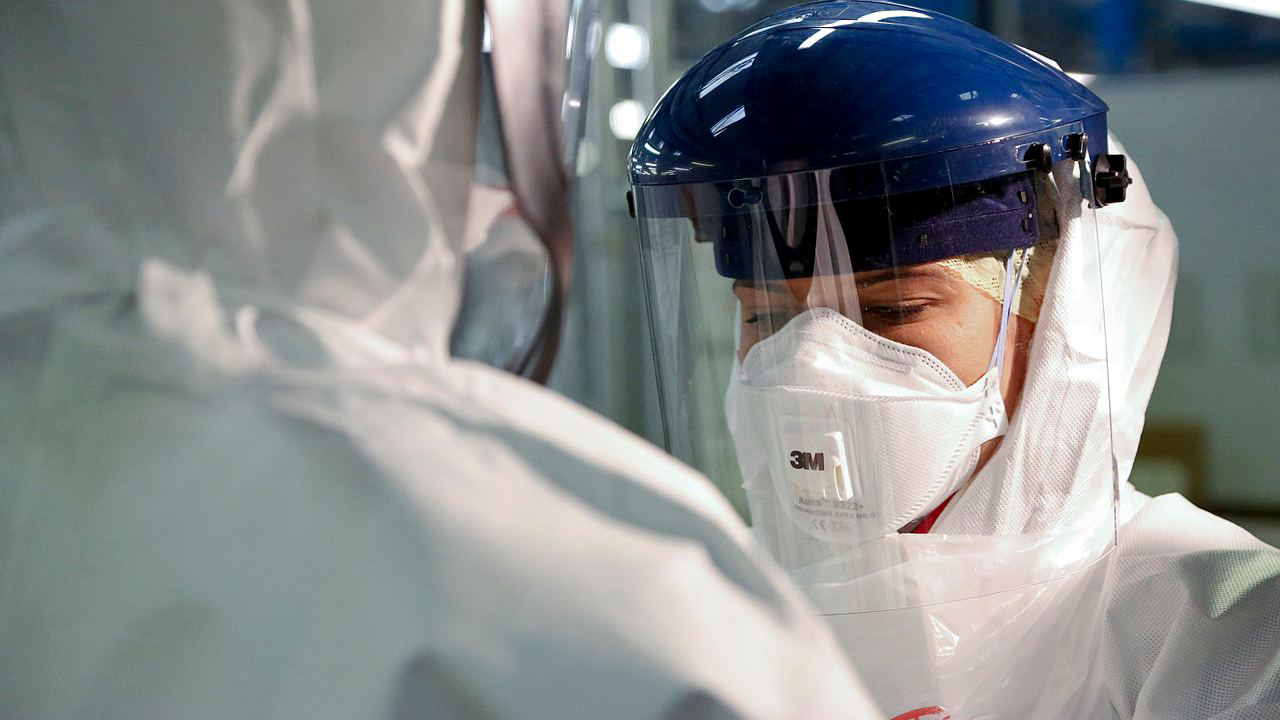Coverall: (3, 6, 863, 709), (627, 6, 1278, 714)
Face_Shield: (620, 22, 1140, 603), (463, 4, 599, 396)
with_mask: (719, 275, 994, 557)
